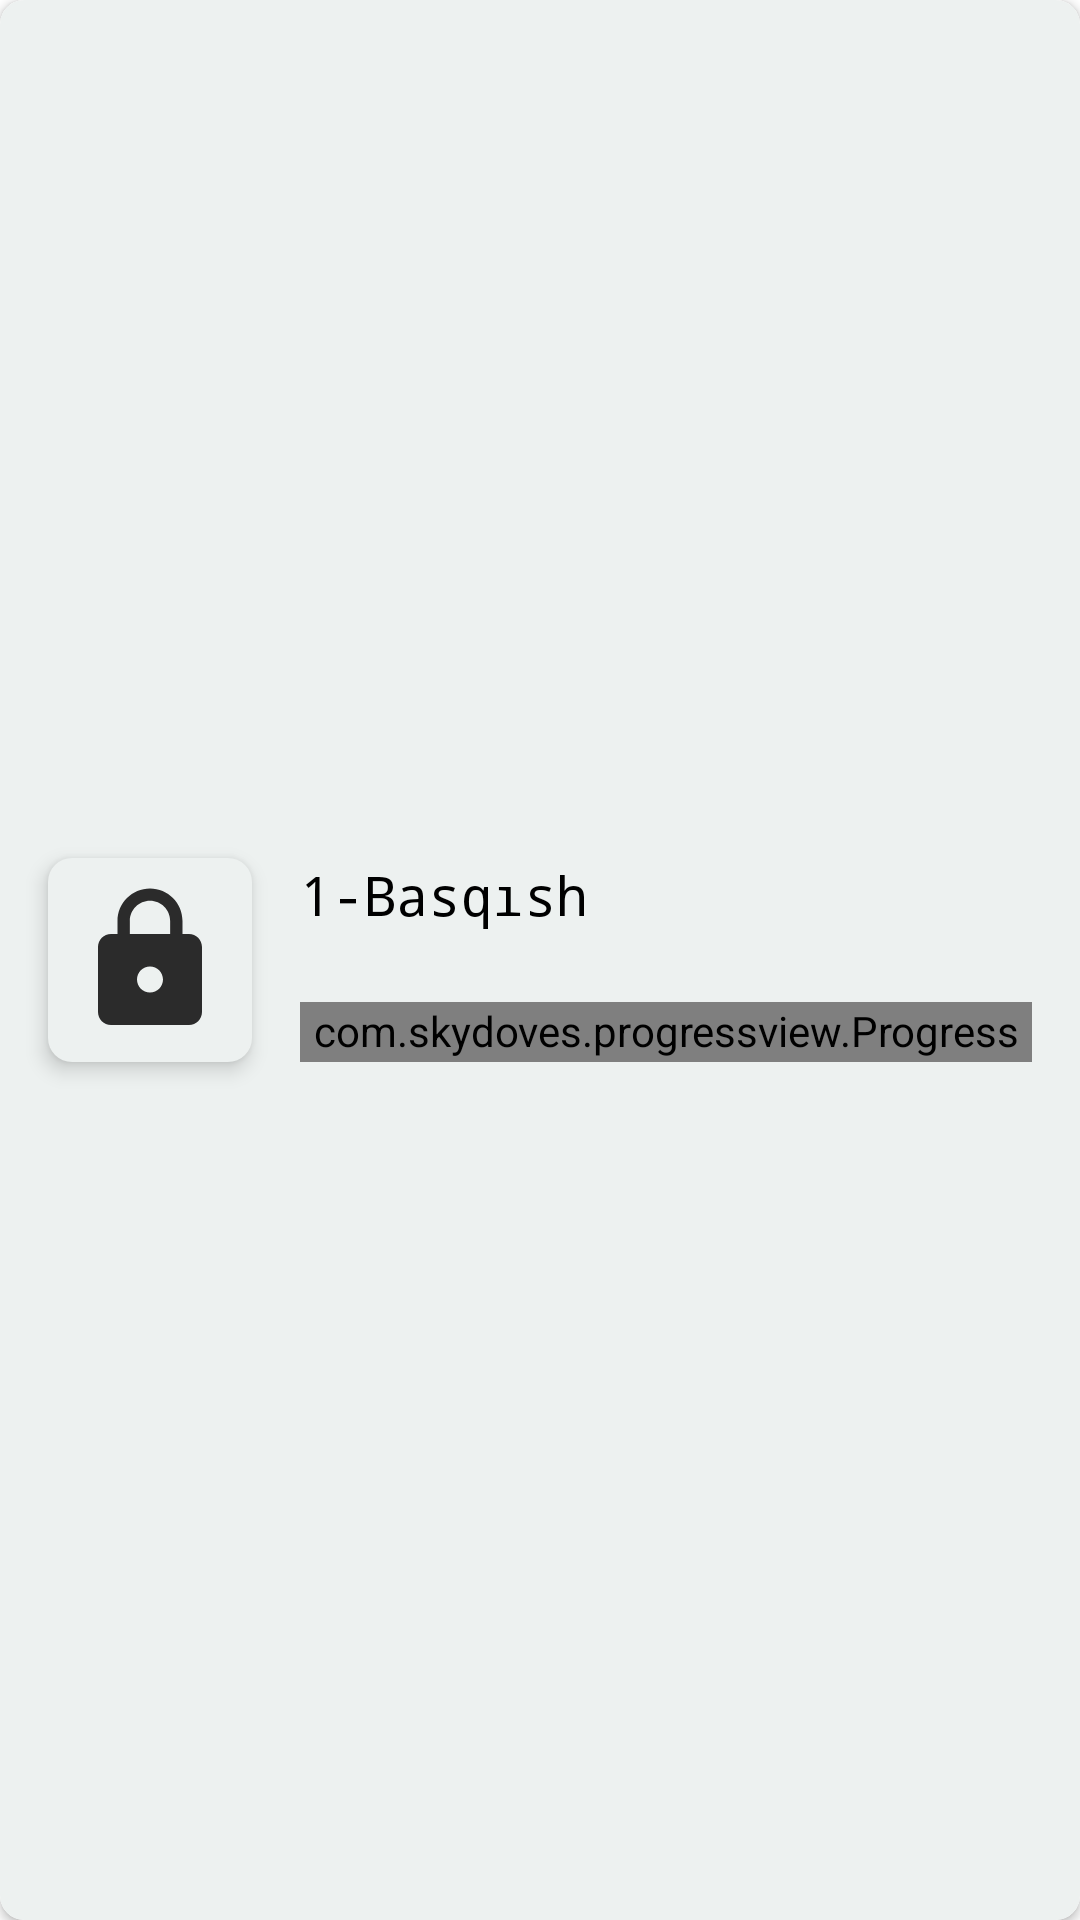

Icons on this 1080px×1920px Android screen, each with the point to tap as point (x, y):
lock: point (147, 975)
